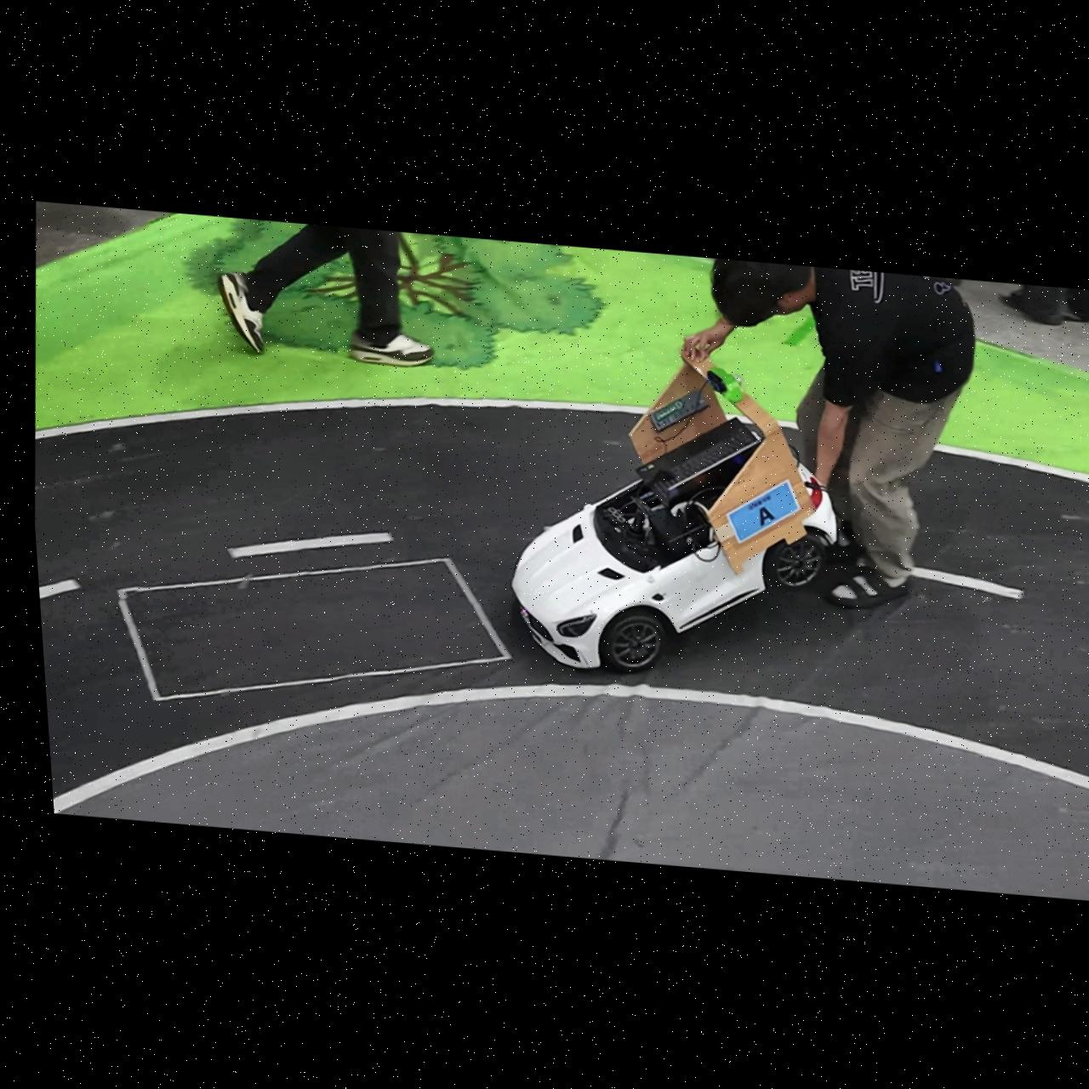broken_line: (227, 532, 393, 559), (914, 567, 1024, 599), (39, 579, 81, 599)
